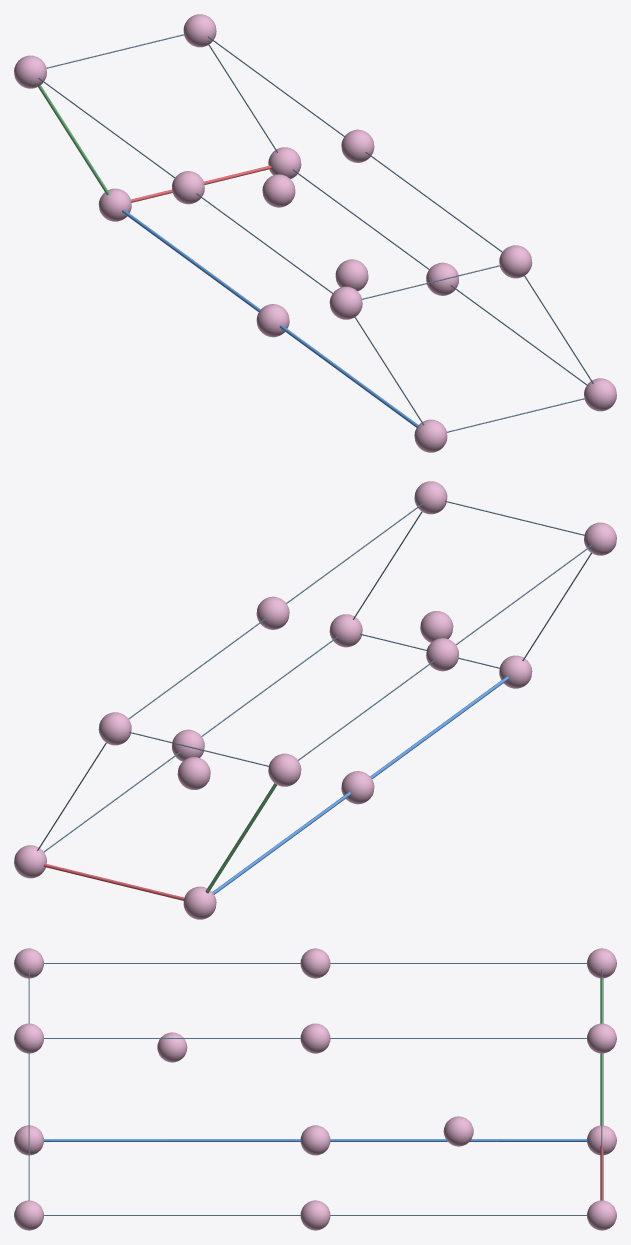
File: nguyen-to-la.glb
The picture shows the model from 3 angles, top to bottom: view 1: azimuth 30°, elevation 25°; view 2: azimuth 150°, elevation 25°; view 3: azimuth 270°, elevation 25°; orthographic projection. The views are drawn at different scales.
Visible parts, largest first — view 1: La1 · La · 1 (×12), Ô mạng và các trục a, b, c, La2 · La · 1 (×2); view 2: La1 · La · 1 (×12), Ô mạng và các trục a, b, c, La2 · La · 1 (×2); view 3: La1 · La · 1 (×12), Ô mạng và các trục a, b, c, La2 · La · 1 (×2).
Part boxes in pixels (x1=…): La1 · La · 1 (×12): x1=14, y1=14, x2=616, y2=452; Ô mạng và các trục a, b, c: x1=38, y1=33, x2=593, y2=432; La2 · La · 1 (×2): x1=262, y1=174, x2=368, y2=291; La1 · La · 1 (×12): x1=14, y1=481, x2=616, y2=919; Ô mạng và các trục a, b, c: x1=37, y1=500, x2=592, y2=900; La2 · La · 1 (×2): x1=177, y1=611, x2=453, y2=789; La1 · La · 1 (×12): x1=14, y1=948, x2=616, y2=1230; Ô mạng và các trục a, b, c: x1=28, y1=963, x2=603, y2=1215; La2 · La · 1 (×2): x1=157, y1=1032, x2=473, y2=1146.
Bounding box in the file's own units: 6.29 × 3.9 × 12.8.
